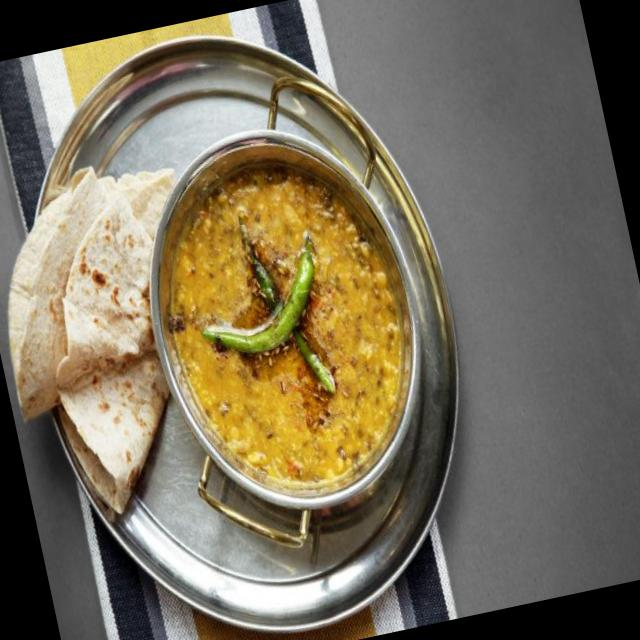dal: (142, 158, 426, 520)
roti: (0, 144, 209, 547)
